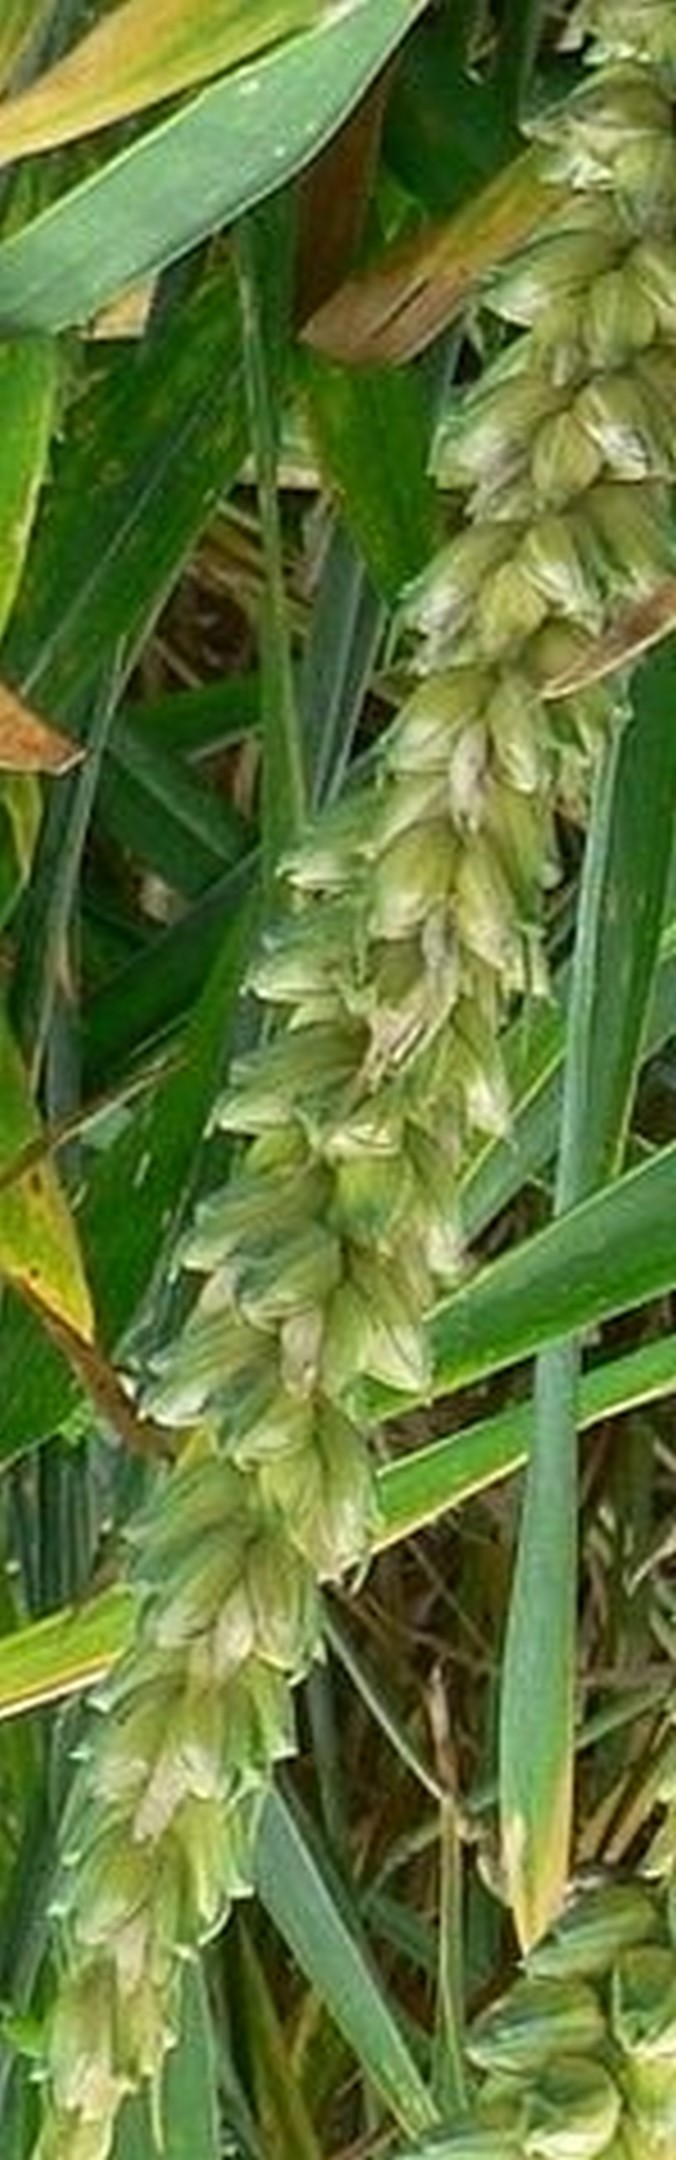Healthy Wheat: (25, 107, 676, 2098)
